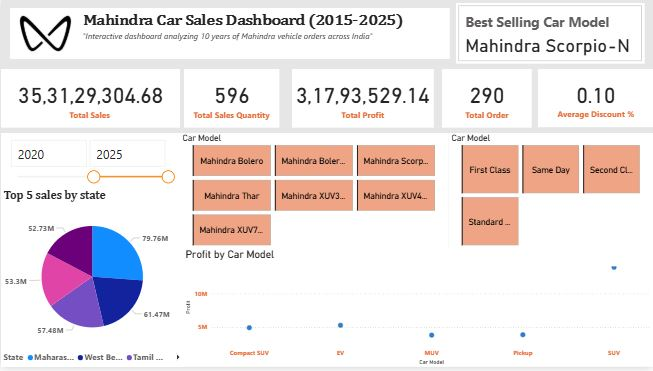

Layout of this report page (visuals, bound fields, positions):
{"tool":"powerbi","page":{"name":"Page 1","canvas":[1280,720],"ordinal":0},"visuals":[{"type":"card","fields":{"Values":["Sum(Mahindra_Car_Orders_10_Years.Sales)"]},"box":[0,134.6,351.5,114.8],"z":2000},{"type":"card","fields":{"Values":["Sum(Mahindra_Car_Orders_10_Years.Quantity)"]},"box":[358.2,134.3,186.6,114.9],"z":3000},{"type":"textbox","box":[155.2,16.4,725.4,100],"z":4000,"group":"g1"},{"type":"card","fields":{"Values":["Sum(Mahindra_Car_Orders_10_Years.Profit)"]},"box":[570.1,134.3,277.6,114.9],"z":4000},{"type":"card","fields":{"Values":["CountNonNull(Mahindra_Car_Orders_10_Years.Order ID)"]},"box":[864.2,134.3,176.1,114.9],"z":5000},{"type":"card","fields":{"Values":["Avg(Mahindra_Car_Orders_10_Years.Discount)"]},"box":[1053.2,134.4,226.8,114.2],"z":6000},{"type":"image","box":[17.6,15.7,139.2,100],"z":6001,"group":"g1"},{"type":"slicer","title":"Year","fields":{"Values":["Mahindra_Car_Orders_10_Years.Order Date.Variation.Date Hierarchy.Year"]},"box":[0,260.4,357.8,107.5],"z":8000},{"type":"advancedSlicerVisual","title":"Car Model","fields":{"Values":["Mahindra_Car_Orders_10_Years.Product Name"]},"box":[351.1,260.4,527.5,226.8],"z":9000},{"type":"advancedSlicerVisual","title":"Car Model","fields":{"Values":["Mahindra_Car_Orders_10_Years.Delivery Mode "]},"box":[878.5,260.4,401.5,226.8],"z":10000},{"type":"cardVisual","fields":{"Data":["Min(Mahindra_Car_Orders_10_Years.Product Name)"]},"box":[892,6.7,369.6,119.3],"z":11000},{"type":"scatterChart","fields":{"X":["Mahindra_Car_Orders_10_Years.Sub-Category"],"Y":["Sum(Mahindra_Car_Orders_10_Years.Profit)"]},"box":[357.8,487.1,922.2,233.5],"z":12000},{"type":"pieChart","title":"Top 5 sales by state ","fields":{"Category":["Mahindra_Car_Orders_10_Years.State/Province"],"Y":["Sum(Mahindra_Car_Orders_10_Years.Sales)"]},"box":[0,367.9,357.8,352.8],"z":12001},{"type":"group","id":"g1","title":"Group 1","box":[17.6,15.7,862.9,100.7],"z":12002}]}

Visuals, with their boxes in screenshot pixels (x1, y1, x2, y2), scaled from the page's 1280x720 canvas onto the 653x371 screenshot:
card - Sum(Mahindra_Car_Orders_10_Years.Sales): 0:69:179:129
card - Sum(Mahindra_Car_Orders_10_Years.Quantity): 183:69:278:128
textbox: 79:8:449:60
card - Sum(Mahindra_Car_Orders_10_Years.Profit): 291:69:432:128
card - CountNonNull(Mahindra_Car_Orders_10_Years.Order ID): 441:69:531:128
card - Avg(Mahindra_Car_Orders_10_Years.Discount): 537:69:652:128
image: 9:8:80:60
"Year" slicer: 0:134:183:190
"Car Model" advancedSlicerVisual: 179:134:448:251
"Car Model" advancedSlicerVisual: 448:134:652:251
cardVisual - Min(Mahindra_Car_Orders_10_Years.Product Name): 455:3:644:65
scatterChart - Mahindra_Car_Orders_10_Years.Sub-Category x Sum(Mahindra_Car_Orders_10_Years.Profit): 183:251:652:370
"Top 5 sales by state " pieChart: 0:190:183:370
"Group 1" group: 9:8:449:60
